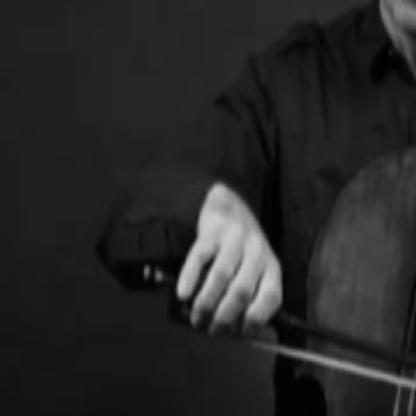good: (174, 184, 296, 344)
